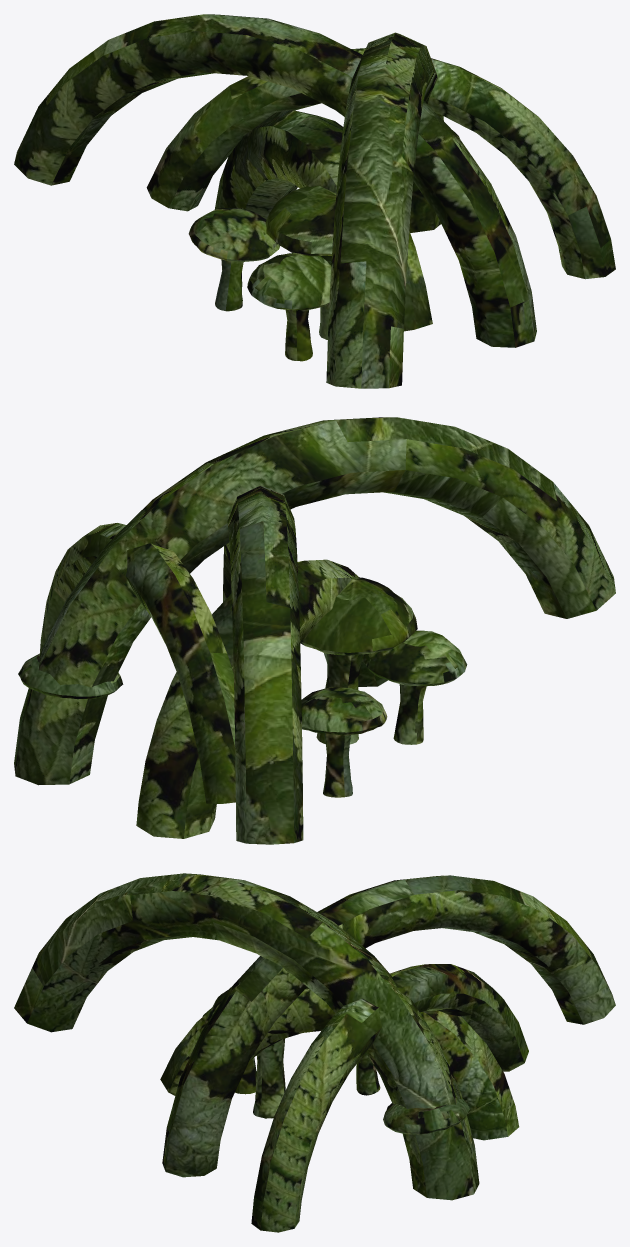
File: roots-with-mushrooms-v01.glb
3 renders of one model, top to bottom at view 1: azimuth 30°, elevation 25°; view 2: azimuth 150°, elevation 25°; view 3: azimuth 270°, elevation 25°, orthographic. The views are drawn at different scales.
Parts seen in each view (by area): view 1: roots-with-mushrooms; view 2: roots-with-mushrooms; view 3: roots-with-mushrooms.
Boxes of the visible parts, left/top/right/bottom form: roots-with-mushrooms: left=14, top=14, right=615, bottom=388; roots-with-mushrooms: left=14, top=417, right=615, bottom=844; roots-with-mushrooms: left=14, top=873, right=615, bottom=1232.
Size of the model in its own units: 1.53 by 0.9698 by 2.15.
2 materials, 2 textured.
